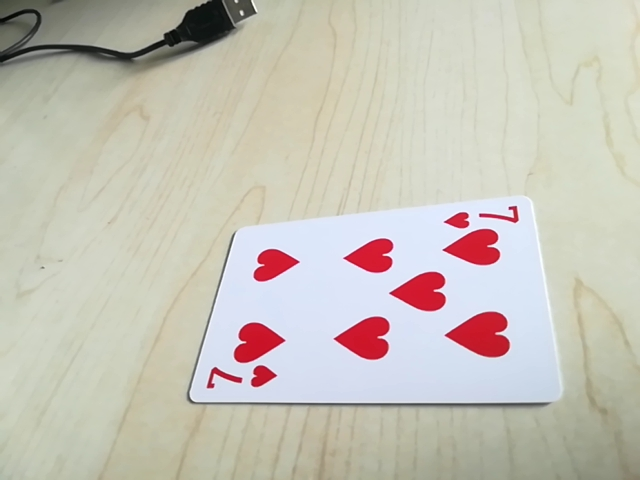hx 7: (198, 365, 278, 399), (442, 200, 523, 231)
